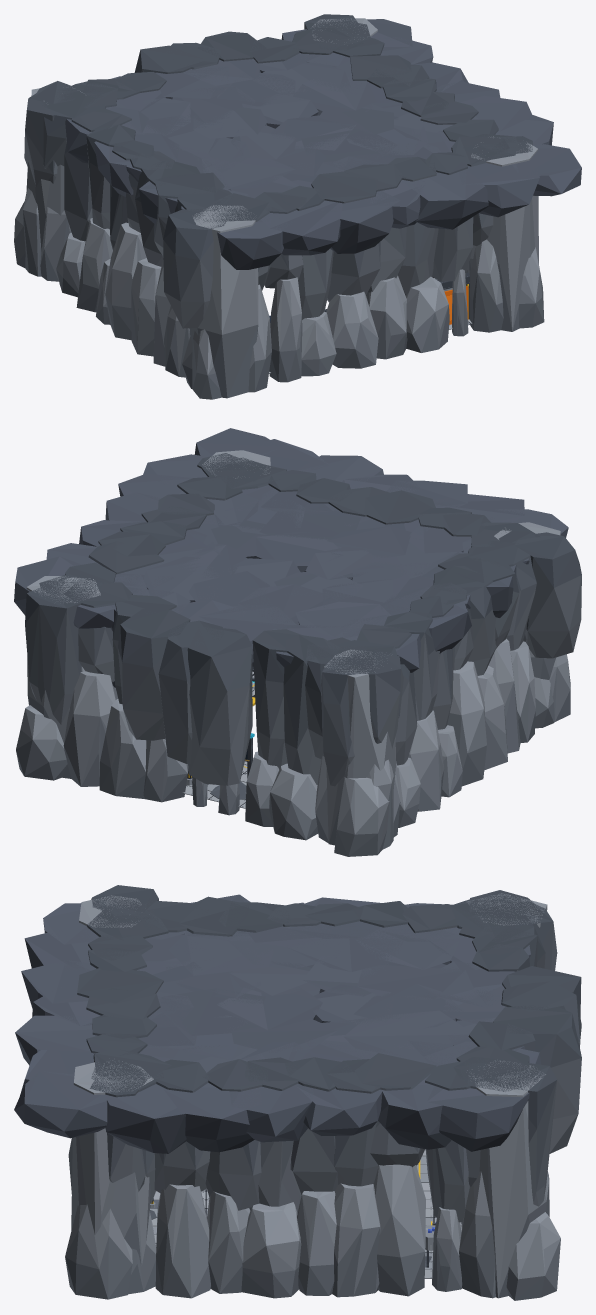
File: automine-hall.glb
The picture shows the model from 3 angles, top to bottom: view 1: azimuth 30°, elevation 25°; view 2: azimuth 150°, elevation 25°; view 3: azimuth 270°, elevation 25°; orthographic projection. The views are drawn at different scales.
Parts seen in each view (by area): view 1: Batched static valley; view 2: Batched static valley; view 3: Batched static valley.
Part boxes in pixels (<box>): Batched static valley: <box>14,14,581,399</box>; Batched static valley: <box>14,428,581,856</box>; Batched static valley: <box>14,885,581,1300</box>.
Size of the model in its own units: 53.54 by 21.6 by 54.83.
9 materials, 2 textured.
